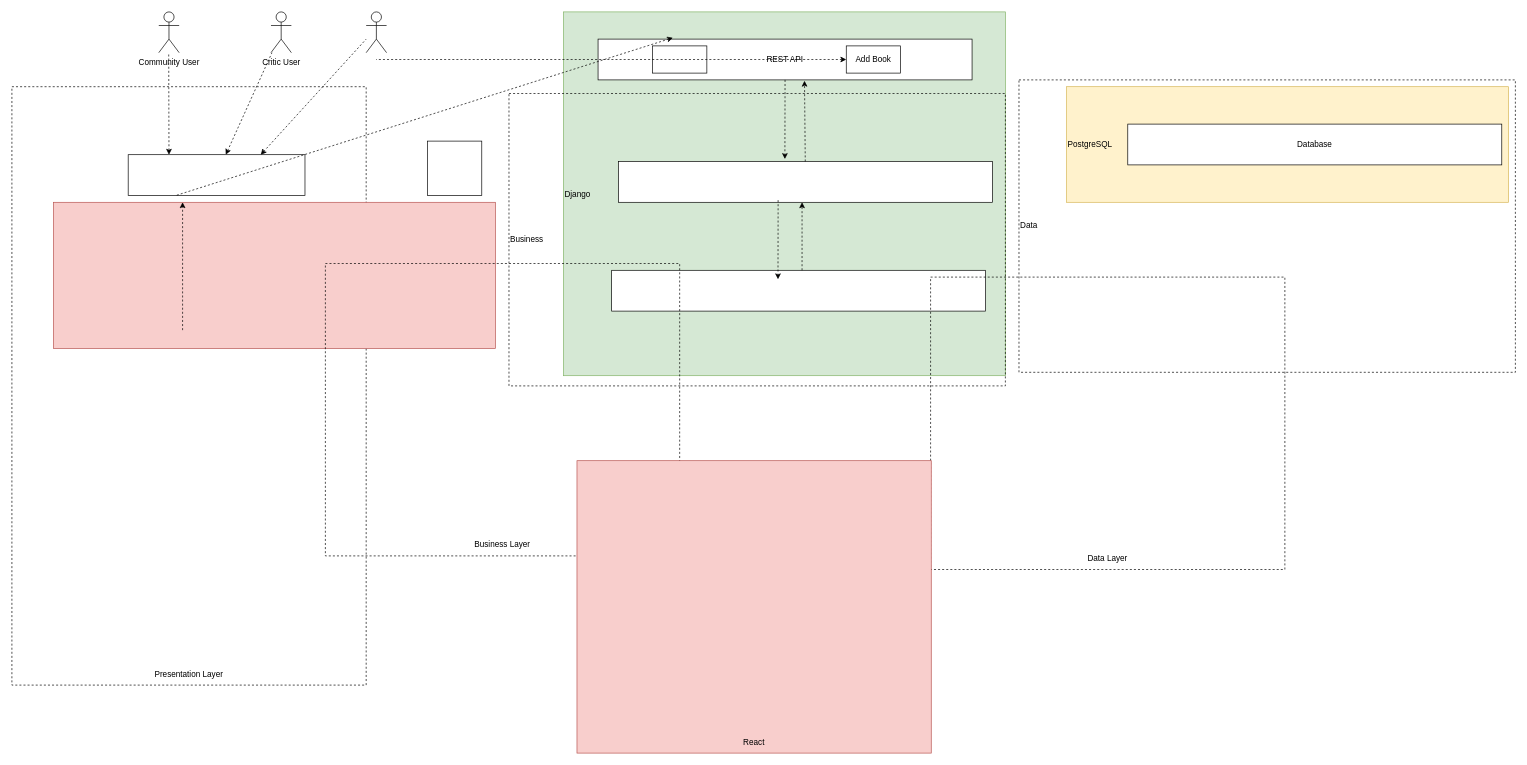
The diagram is 1527 pixels wide and 765 high, and some of its shapes have lost their labels. Here are the shapes that lost their labels. From the top down, the centre of each, then its label:
[376,32]: Admin
[679,59]: Get Book
[216,175]: .js Pages ie. Create Account, Homepage, Book Page etc.
[454,168]: Ant Design UI Library
[805,181]: Application
[798,290]: Models
